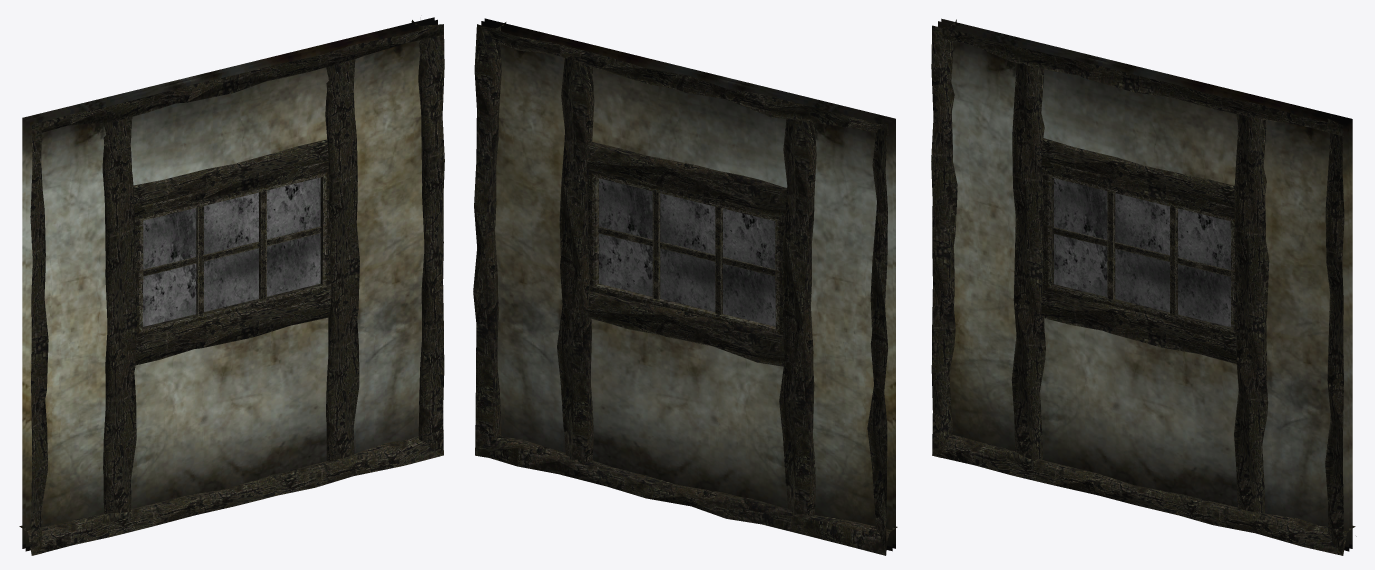
Rendered from default_extension_window01.DAE.
3 views of the same model, side by side, from view 1: azimuth 30°, elevation 25°; view 2: azimuth 150°, elevation 25°; view 3: azimuth 330°, elevation 25° (orthographic).
Visible parts, largest first — view 1: Object001, polySurface31, Object003, Object002; view 2: Object001, polySurface31, Object003, Object002; view 3: Object001, polySurface31, Object003, Object002.
Boxes of the visible parts, <box> form: Object001: <box>22,17,437,551</box>; polySurface31: <box>19,20,444,555</box>; Object003: <box>143,177,320,326</box>; Object002: <box>133,161,332,342</box>; Object001: <box>481,18,895,551</box>; polySurface31: <box>473,22,897,555</box>; Object003: <box>599,178,775,326</box>; Object002: <box>587,170,784,334</box>; Object001: <box>938,18,1352,551</box>; polySurface31: <box>931,19,1356,555</box>; Object003: <box>1054,178,1230,327</box>; Object002: <box>1042,162,1241,339</box>.
Size of the model in its own units: 4 by 4 by 0.328.
